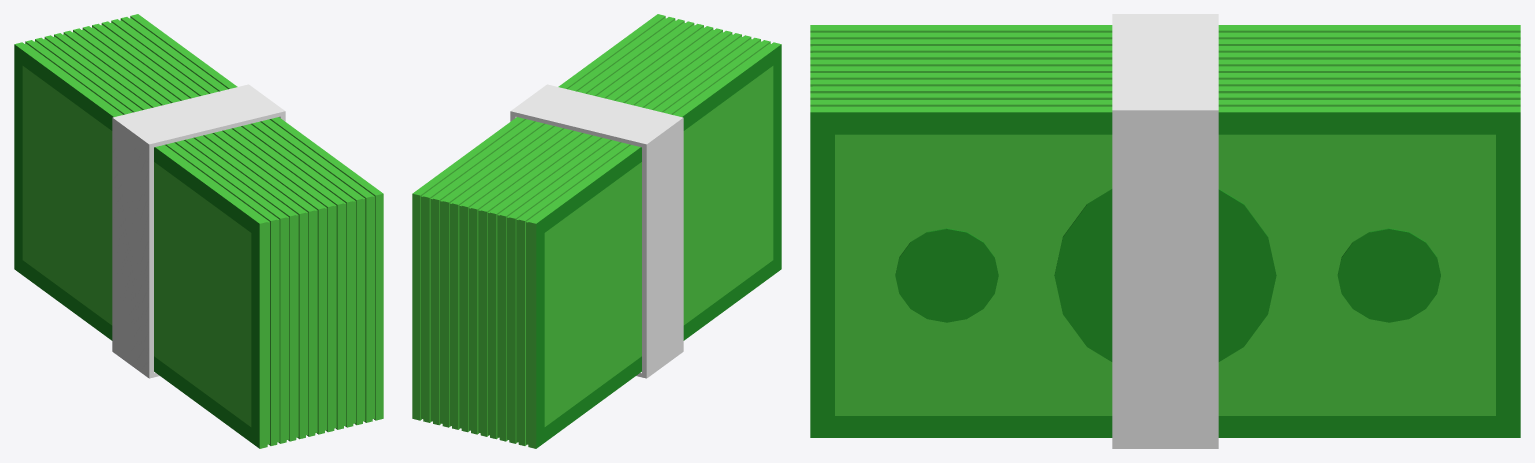
The model's file is green_money.fbx.
The picture shows the model from 3 angles, left to right: view 1: azimuth 30°, elevation 25°; view 2: azimuth 150°, elevation 25°; view 3: azimuth 270°, elevation 25°; orthographic projection. The views are drawn at different scales.
Parts seen in each view (by area): view 1: Cylinder.001; view 2: Cylinder.001; view 3: Cylinder.001.
Boxes of the visible parts, x1=… form: Cylinder.001: x1=14, y1=14, x2=383, y2=448; Cylinder.001: x1=412, y1=14, x2=781, y2=448; Cylinder.001: x1=810, y1=14, x2=1520, y2=448.
Bounding box in the file's own units: 64.13 × 105 × 200.
